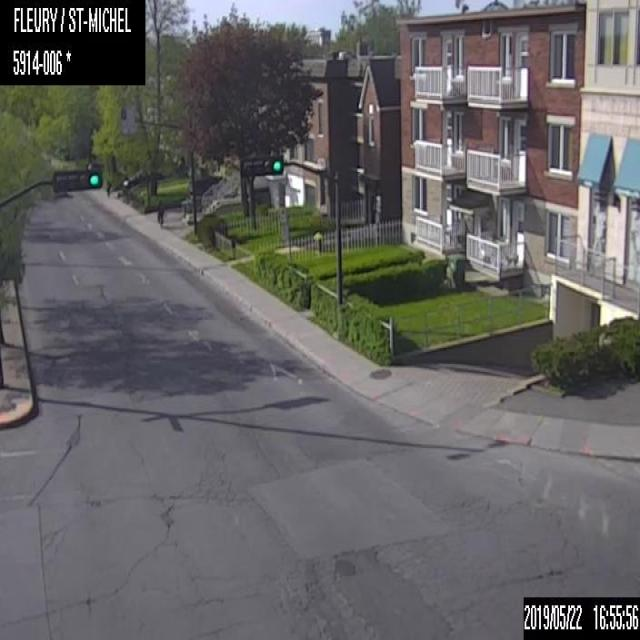pedestrian: (156, 200, 163, 227), (105, 180, 110, 197)
